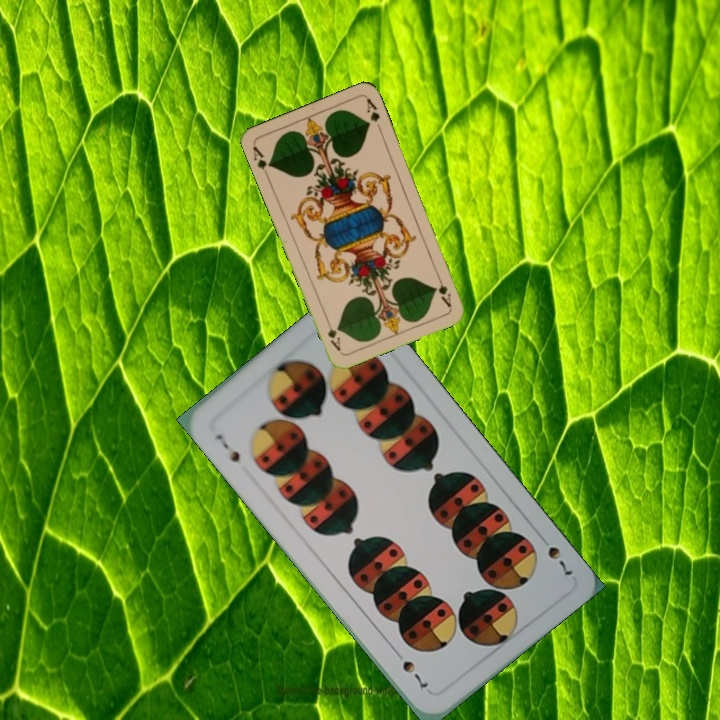GA: (248, 142, 274, 180), (432, 271, 454, 310)
S7: (543, 542, 575, 578), (211, 430, 243, 465)
